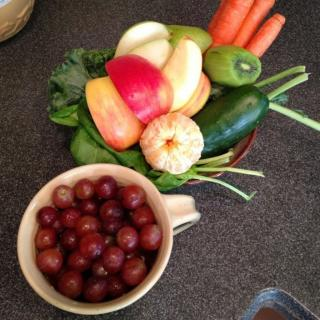Cucumber: (197, 82, 269, 160)
Tomato: (31, 172, 169, 296)
